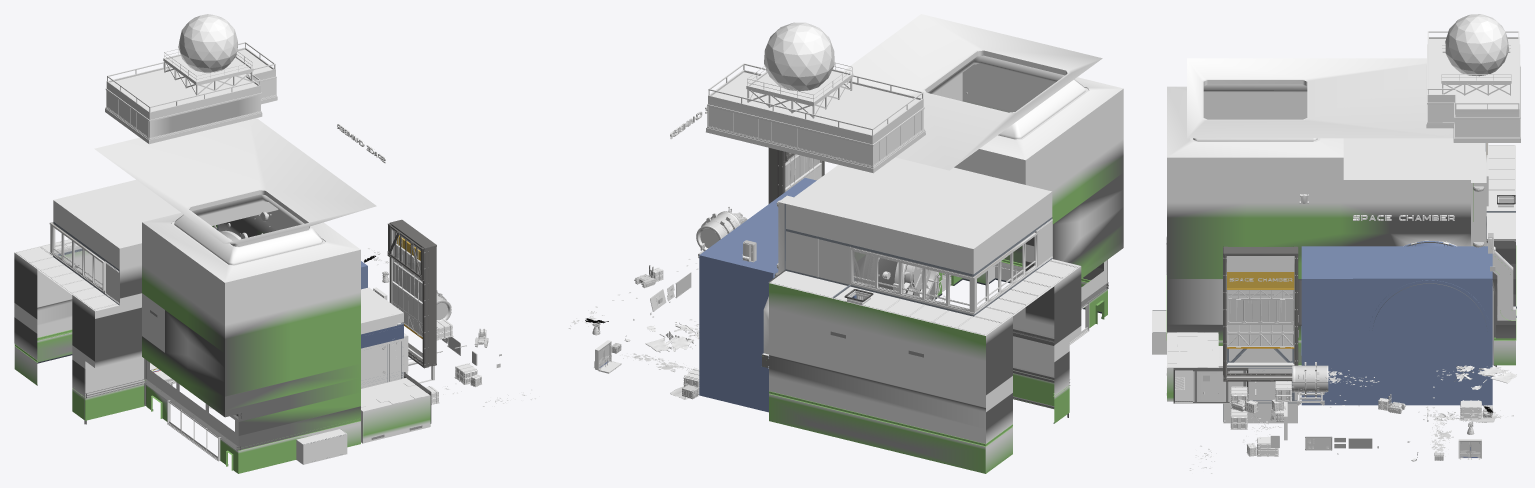
File: cell_168_113.fbx
3 views of the same model, side by side, from view 1: azimuth 30°, elevation 25°; view 2: azimuth 150°, elevation 25°; view 3: azimuth 270°, elevation 25° (orthographic). The views are drawn at different scales.
Visible parts, largest first — view 1: SM_H_Building_FutureTech_HBlack_01_InterWall_04H.mo, SM_H_Building_FutureTech_HLight_01_ExterWall_05.mo.001, SM_H_Building_FutureTech_HBlack_01_InterWall_08.mo, SM_H_FutureTech_Furniture_Dome_01.mo.004, SM_H_Customiz_SlidingDoor_01_Frame.mo.003, SM_H_Customiz_SlidingDoor_01C.mo.003, SM_H_Customiz_SlidingDoor_01B.mo.002; view 2: SM_H_Building_FutureTech_HBlack_01_InterWall_04H.mo, SM_H_Building_FutureTech_HLight_01_ExterWall_05.mo.001, SM_H_FutureTech_Furniture_Dome_01.mo.004, SM_H_Building_FutureTech_HBlack_RoomDoor_01B.mo, SM_H_Customiz_SlidingDoor_01_Frame.mo.003, SM_H_Industrial_ISS_Rocket_01_04.mo, SM_H_Building_FutureTech_HBlack_RoomDoor_01.mo, SM_H_Customiz_SlidingDoor_01B.mo.002, SM_H_Building_FutureTech_HBlack_01_InterWall_04E.mo.018; view 3: SM_H_Building_FutureTech_HBlack_01_InterWall_04H.mo, SM_H_Building_FutureTech_HLight_01_ExterWall_05.mo.001, SM_H_Building_FutureTech_HBlack_01_InterWall_08.mo, SM_H_FutureTech_Furniture_Dome_01.mo.004, SM_H_Customiz_SlidingDoor_01_Frame.mo.003, SM_H_Customiz_SlidingDoor_01C.mo.003, SM_H_Customiz_SlidingDoor_01B.mo.002, SM_H_Customiz_ExperimentalDoor_01_L.mo.028, SM_H_Industrial_ISS_Rocket_01_04.mo, SM_H_Customiz_SlidingDoor_01A.mo.003, SM_H_Building_FutureTech_HLight_01_ExterWall_Damage_01D_Deca, SM_H_Customiz_ExperimentalDoor_01_1024_Frame.mo.014 (+4 smaller).
Boxes of the visible parts, x1,y1,x2,y2 form: SM_H_Building_FutureTech_HBlack_01_InterWall_04H.mo: (14,118,376,473); SM_H_Building_FutureTech_HLight_01_ExterWall_05.mo.001: (105,42,277,144); SM_H_Building_FutureTech_HBlack_01_InterWall_08.mo: (361,287,430,443); SM_H_FutureTech_Furniture_Dome_01.mo.004: (163,14,253,95); SM_H_Customiz_SlidingDoor_01_Frame.mo.003: (387,219,436,368); SM_H_Customiz_SlidingDoor_01C.mo.003: (392,281,422,338); SM_H_Customiz_SlidingDoor_01B.mo.002: (393,262,422,302); SM_H_Building_FutureTech_HBlack_01_InterWall_04H.mo: (699,14,1123,473); SM_H_Building_FutureTech_HLight_01_ExterWall_05.mo.001: (706,63,925,173); SM_H_FutureTech_Furniture_Dome_01.mo.004: (746,22,853,118); SM_H_Building_FutureTech_HBlack_RoomDoor_01B.mo: (882,262,942,299); SM_H_Customiz_SlidingDoor_01_Frame.mo.003: (768,148,824,203); SM_H_Industrial_ISS_Rocket_01_04.mo: (696,211,740,250); SM_H_Building_FutureTech_HBlack_RoomDoor_01.mo: (861,255,935,300); SM_H_Customiz_SlidingDoor_01B.mo.002: (785,155,819,187); SM_H_Building_FutureTech_HBlack_01_InterWall_04E.mo.018: (854,251,874,285); SM_H_Building_FutureTech_HBlack_01_InterWall_04H.mo: (1152,58,1516,405); SM_H_Building_FutureTech_HLight_01_ExterWall_05.mo.001: (1426,31,1520,142); SM_H_Building_FutureTech_HBlack_01_InterWall_08.mo: (1166,332,1297,423); SM_H_FutureTech_Furniture_Dome_01.mo.004: (1441,14,1511,95); SM_H_Customiz_SlidingDoor_01_Frame.mo.003: (1223,246,1298,381); SM_H_Customiz_SlidingDoor_01C.mo.003: (1227,325,1294,348); SM_H_Customiz_SlidingDoor_01B.mo.002: (1227,300,1294,324); SM_H_Customiz_ExperimentalDoor_01_L.mo.028: (1193,370,1229,402); SM_H_Industrial_ISS_Rocket_01_04.mo: (1292,365,1328,392); SM_H_Customiz_SlidingDoor_01A.mo.003: (1227,290,1294,300); SM_H_Building_FutureTech_HLight_01_ExterWall_Damage_01D_Deca: (1456,365,1516,389); SM_H_Customiz_ExperimentalDoor_01_1024_Frame.mo.014: (1173,368,1248,403).
Bounding box in the file's own units: 63.69 × 55.63 × 50.69.
